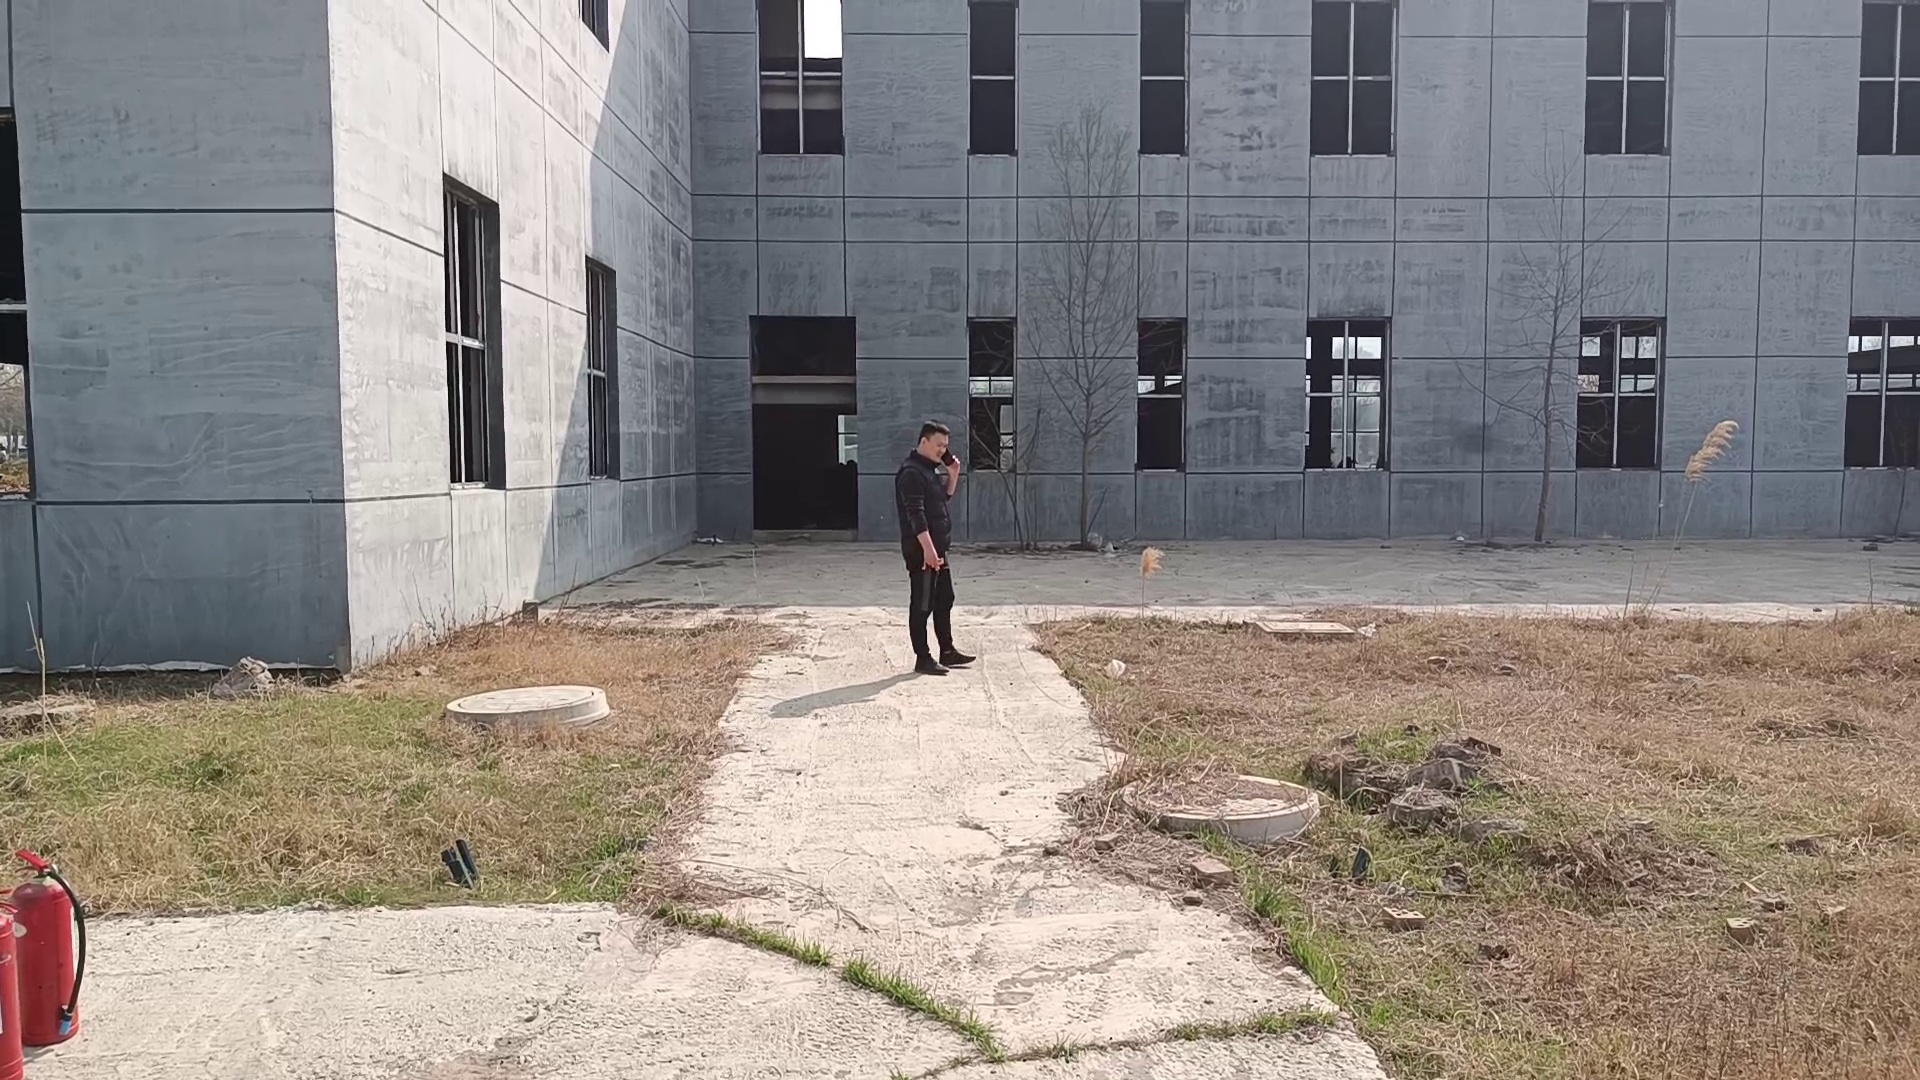phone: (905, 411, 968, 483)
